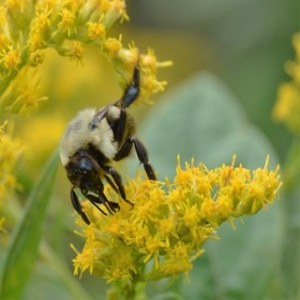bee: (59, 52, 161, 229)
